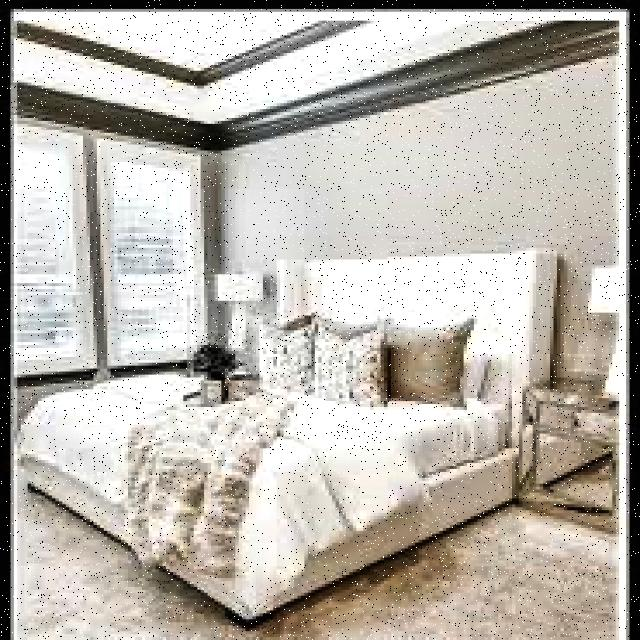bed: (8, 246, 579, 588)
